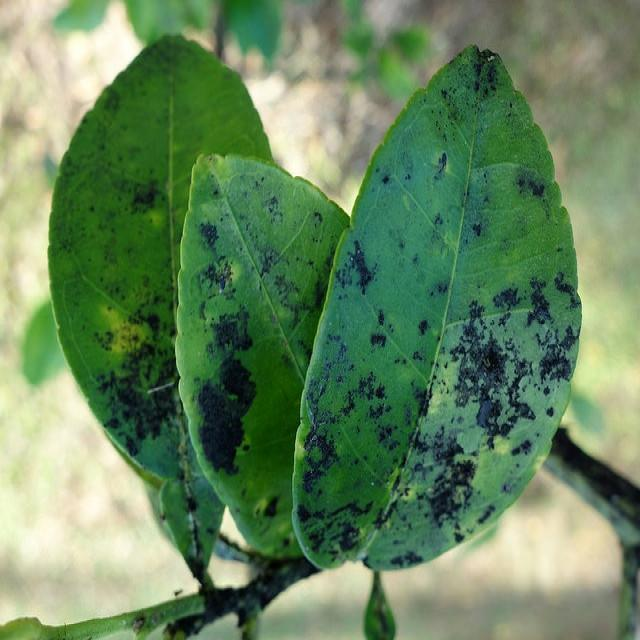Sooty Mold: (13, 78, 640, 549)
